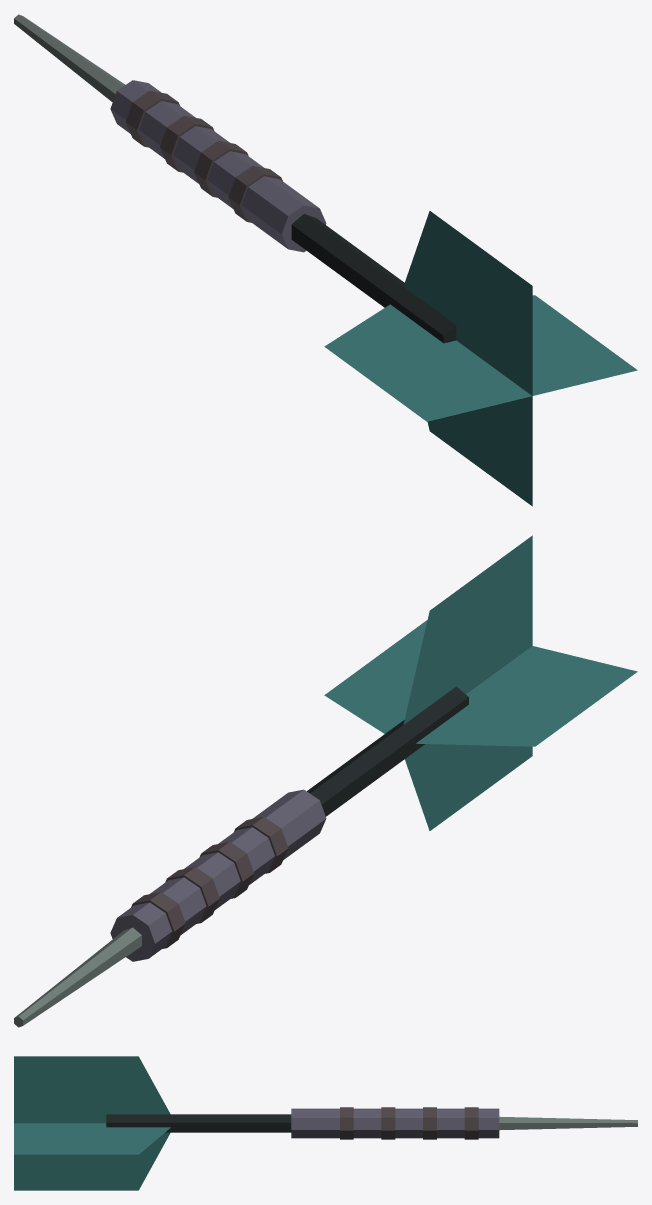
Rendered from sageata_albastra.glb.
The picture shows the model from 3 angles, top to bottom: view 1: azimuth 30°, elevation 25°; view 2: azimuth 150°, elevation 25°; view 3: azimuth 270°, elevation 25°; orthographic projection. The views are drawn at different scales.
Parts seen in each view (by area): view 1: Sageata; view 2: Sageata; view 3: Sageata.
Boxes of the visible parts, x1=… form: Sageata: x1=14, y1=14, x2=637, y2=506; Sageata: x1=14, y1=535, x2=637, y2=1027; Sageata: x1=14, y1=1056, x2=637, y2=1190.
Size of the model in its own units: 0.032 by 0.032 by 0.135.
